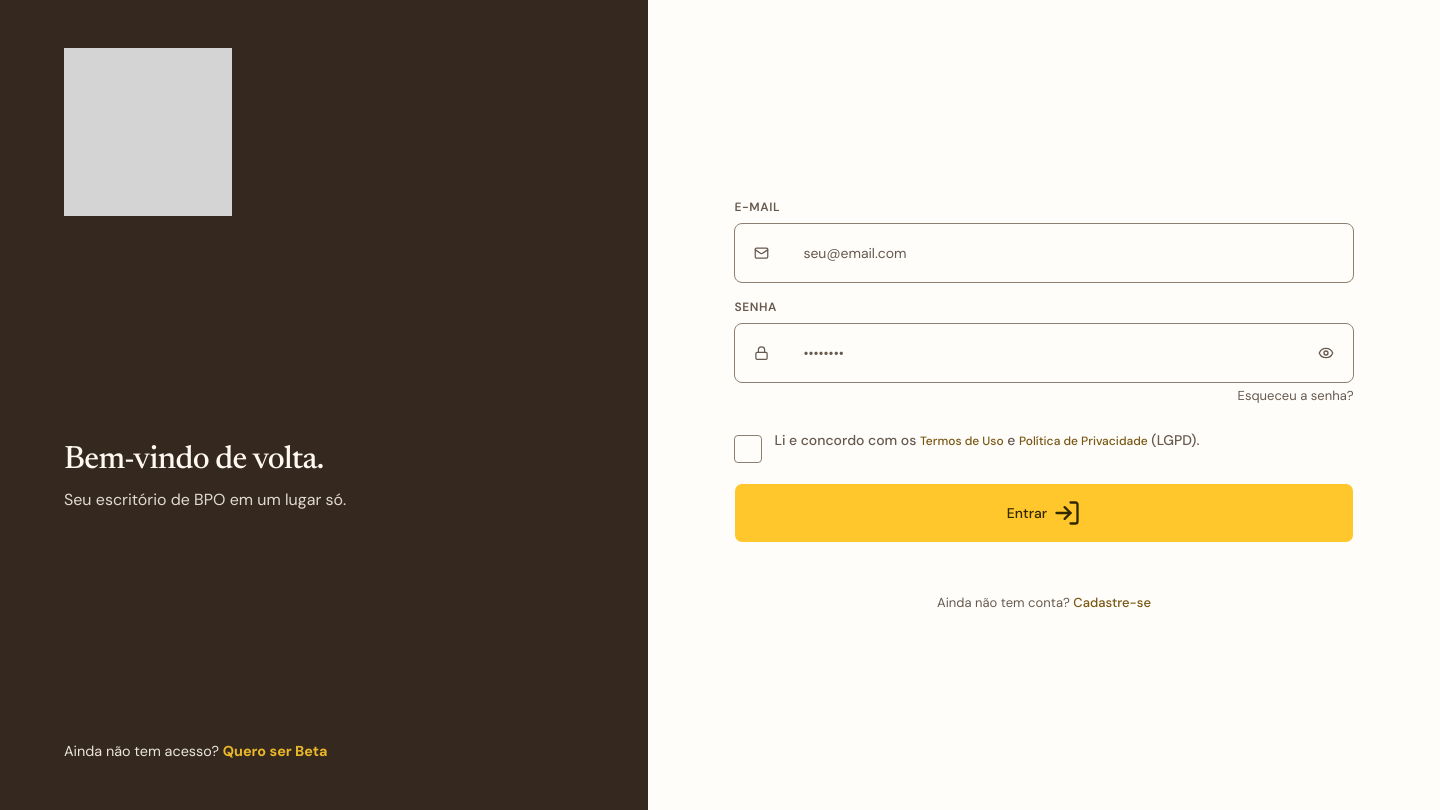
Scenario: Login com modal de cadastro — catálogo de planos só é buscado com sessão › após cadastrar (autenticado), a oferta busca o catálogo via GET /plans exatamente 1 vez
Click the button "Cadastre-se".
click(1112, 603)  # box left=1073, top=593, right=1151, bottom=613
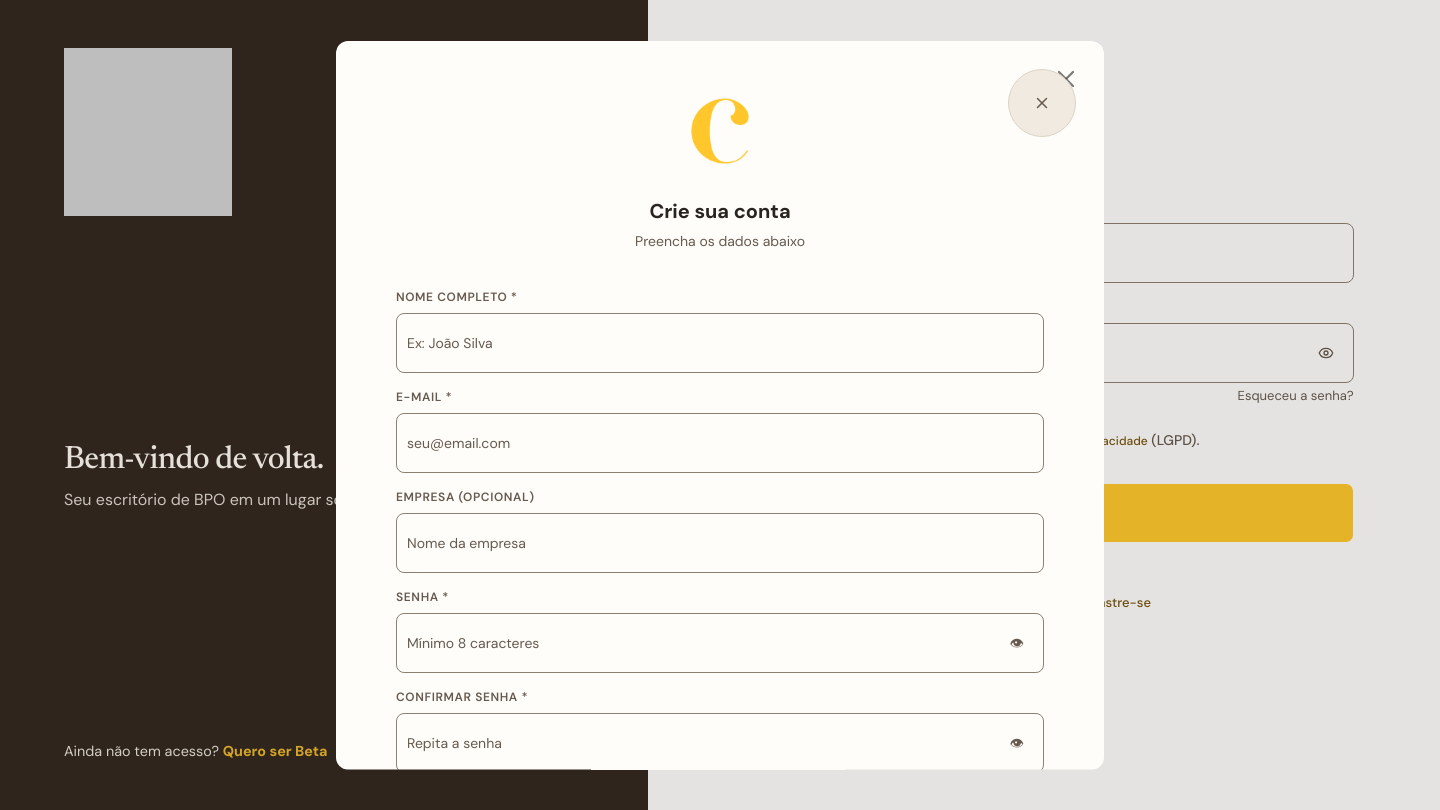
Expected: the heading "Crie sua conta" is shown, left=649, top=198, right=791, bottom=224
Type "João" into the field with placeholder "Ex: João Silva".
click(720, 342); type("João")  # box left=396, top=312, right=1044, bottom=372
Type "joao@teste.com" into the field with placeholder "seu@email.com".
click(720, 442); type("joao@teste.com")  # box left=396, top=412, right=1044, bottom=472
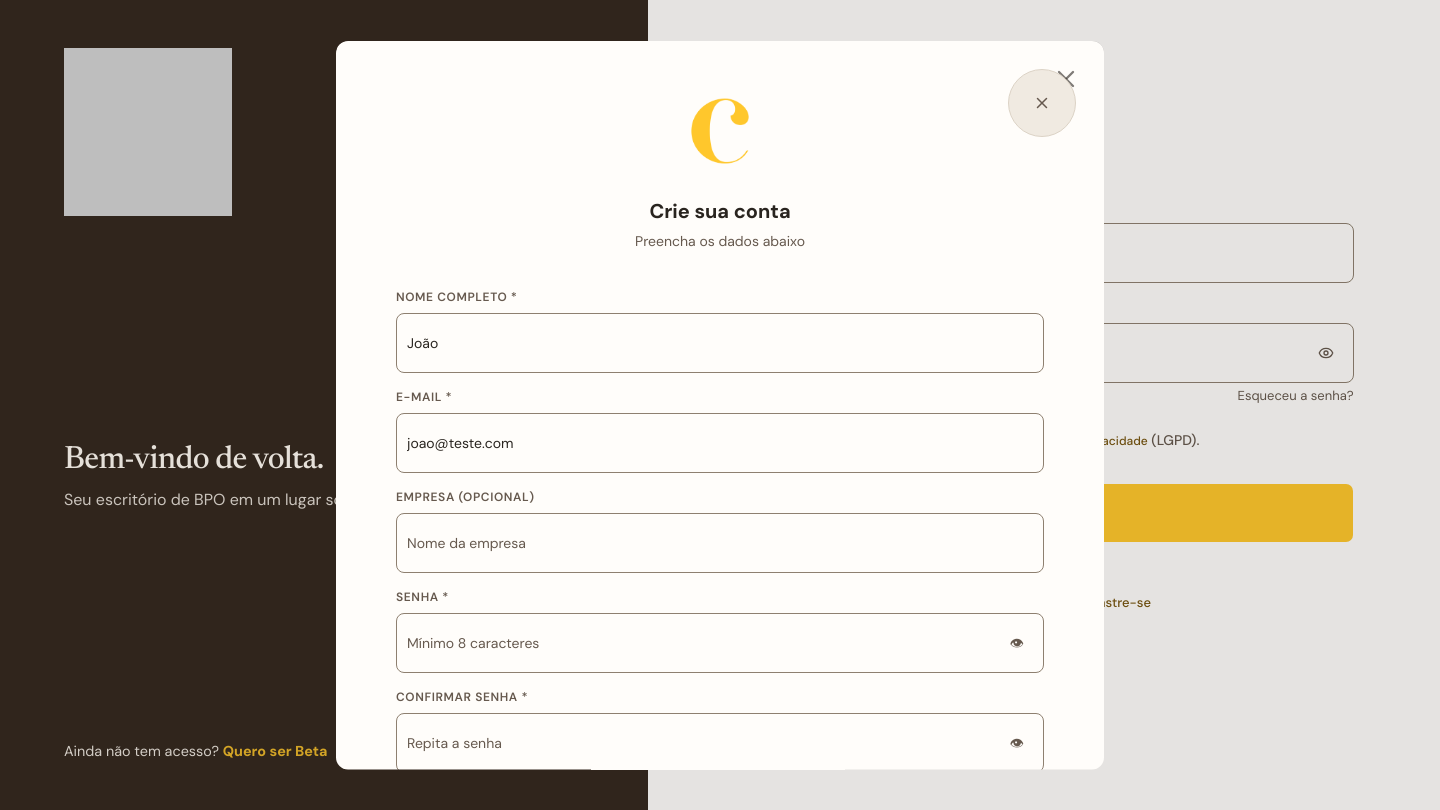
Type "12345678" into the password field with placeholder "Mínimo 8 caracteres".
click(720, 642); type("12345678")  # box left=396, top=612, right=1044, bottom=672
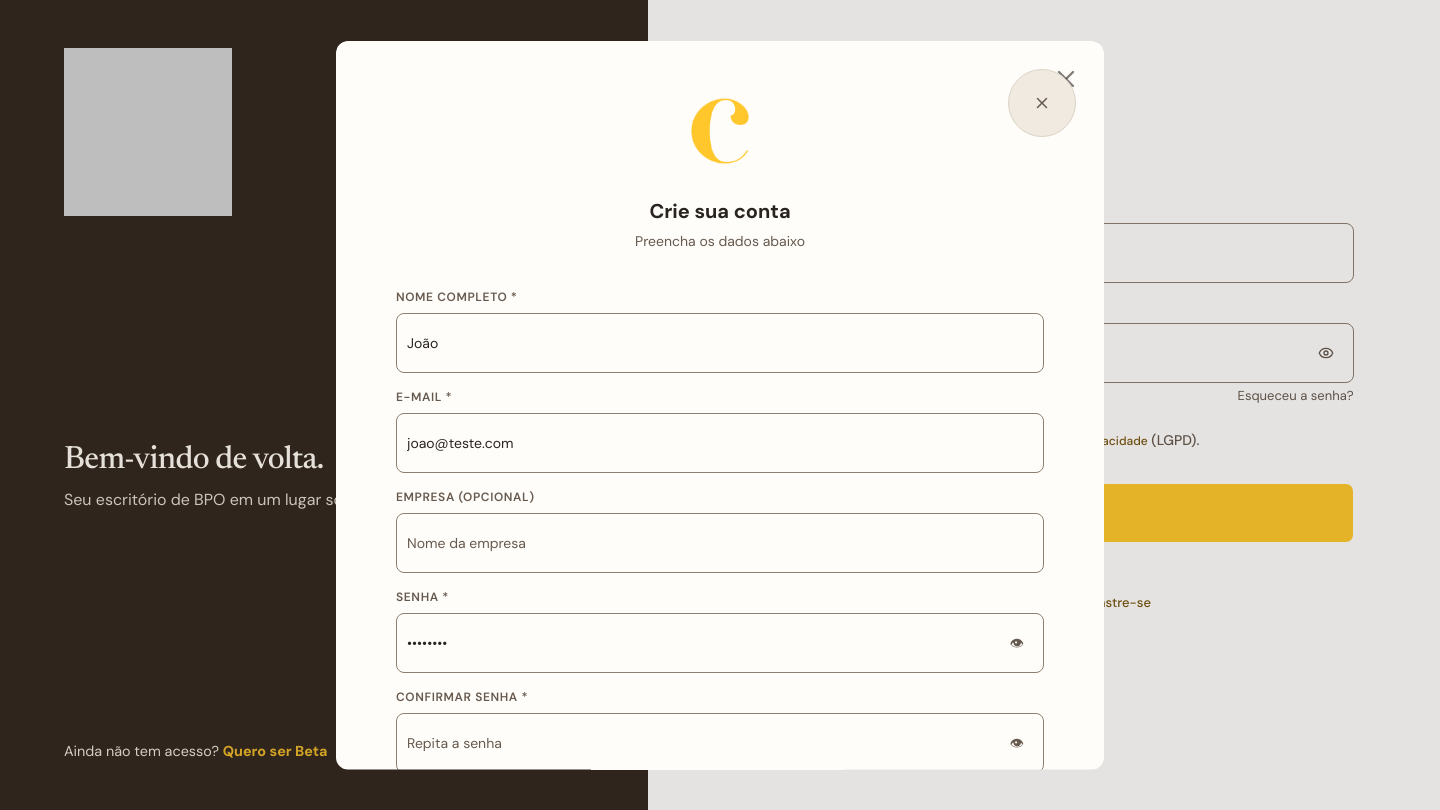
Type "12345678" into the password field with placeholder "Repita a senha".
click(720, 742); type("12345678")  # box left=396, top=712, right=1044, bottom=772
(page scrolled)
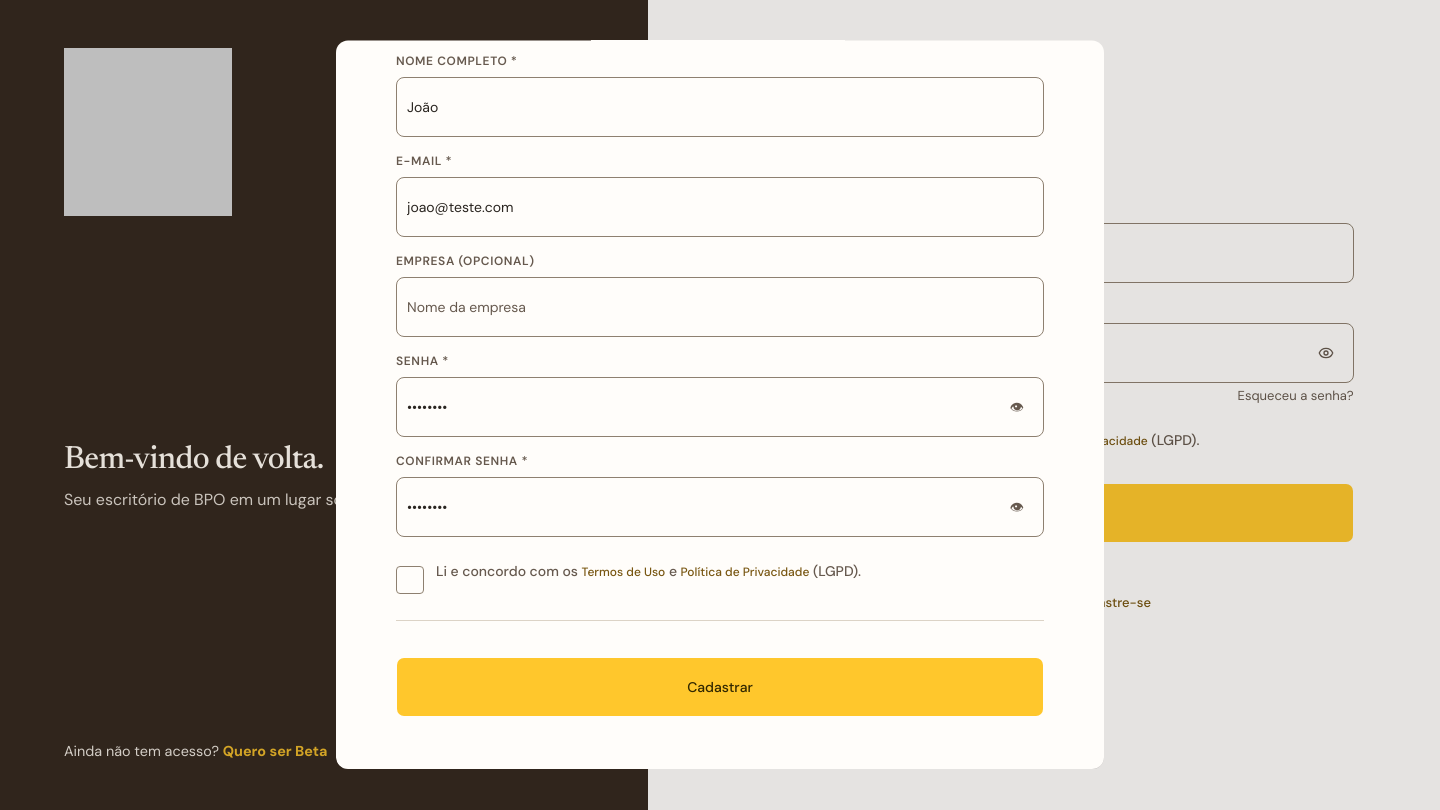
Click the checkbox named "li e concordo com os".
click(410, 580)  # box left=396, top=566, right=424, bottom=594
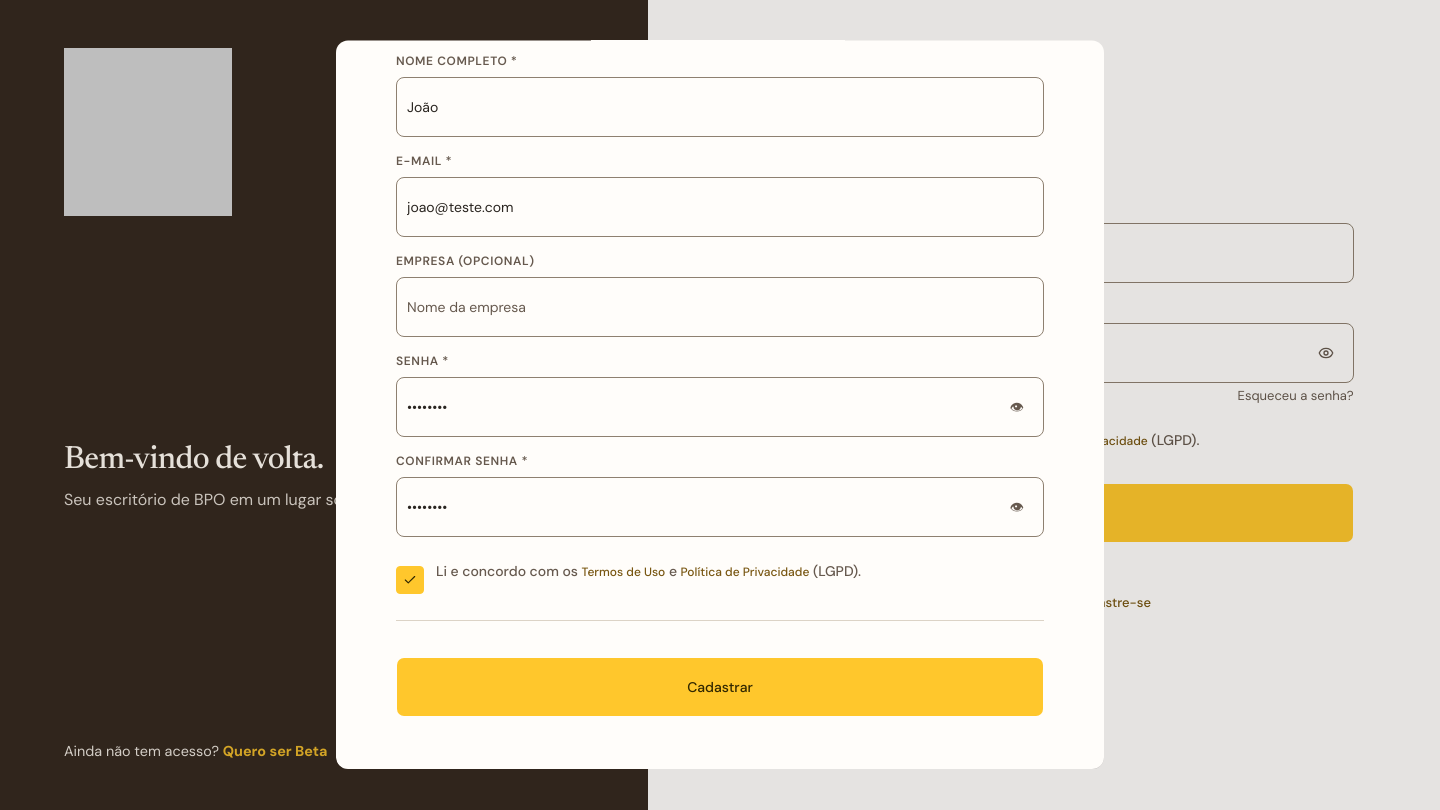
Click the button "Cadastrar".
click(720, 688)  # box left=396, top=658, right=1044, bottom=718
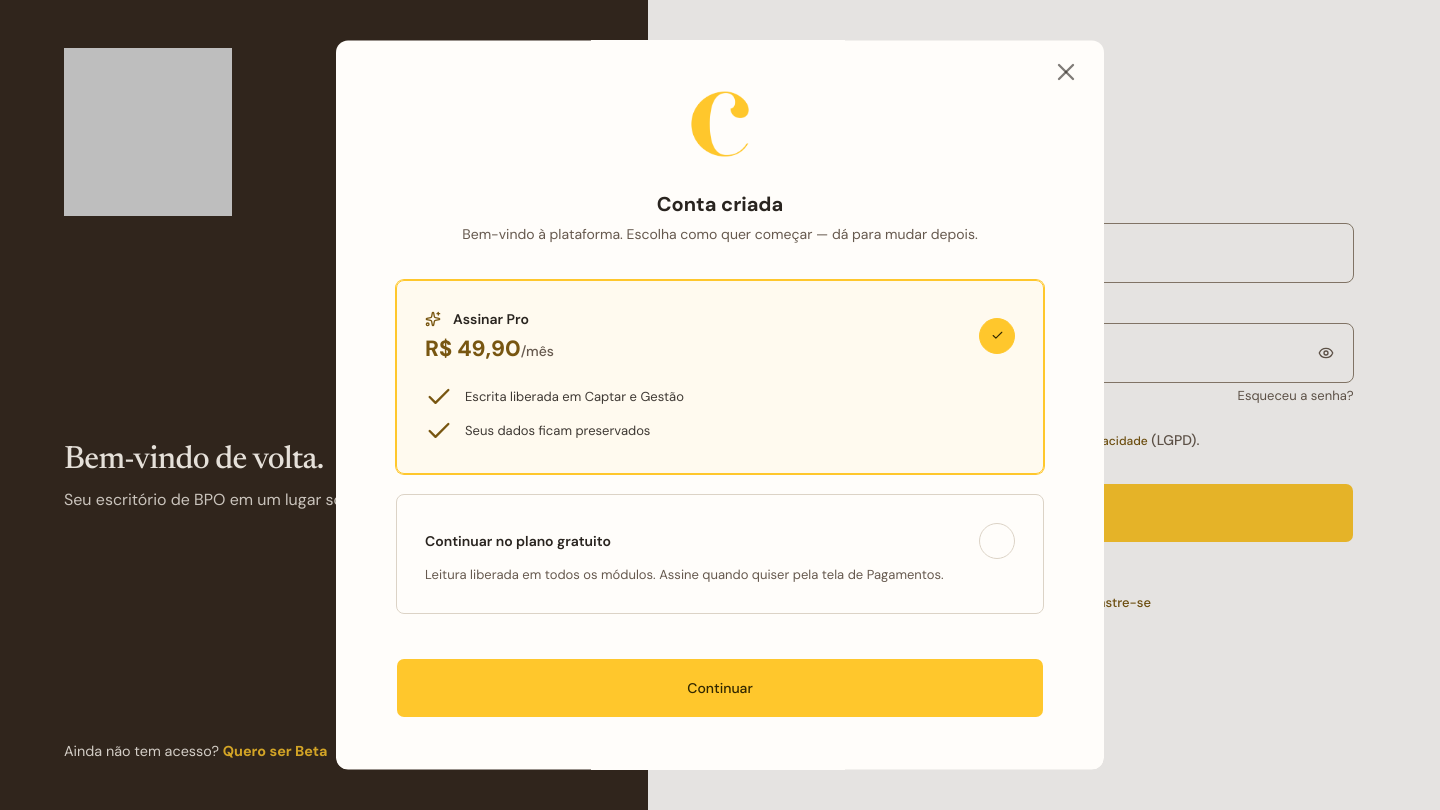
Expected: the heading "Conta criada" is shown, left=657, top=190, right=783, bottom=216
Expected: the text "R$ 49,90/mês" is shown, left=425, top=334, right=554, bottom=362
